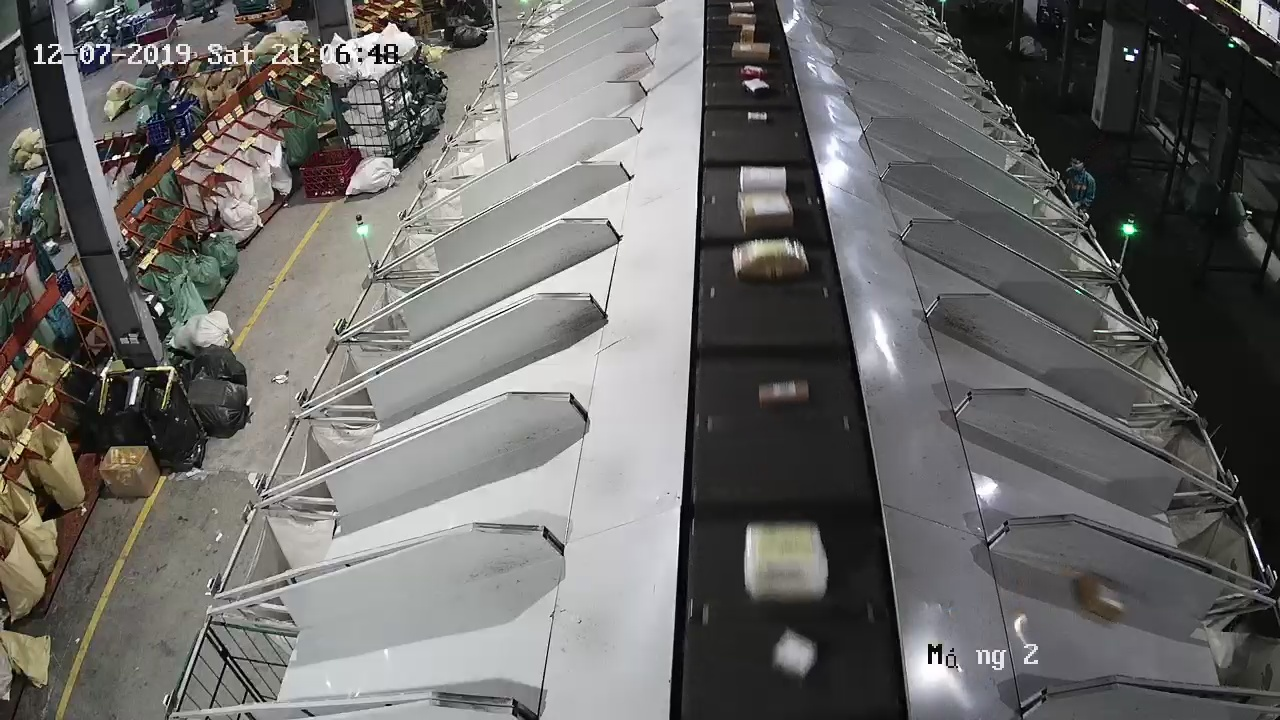parcel: (1077, 572, 1124, 622)
